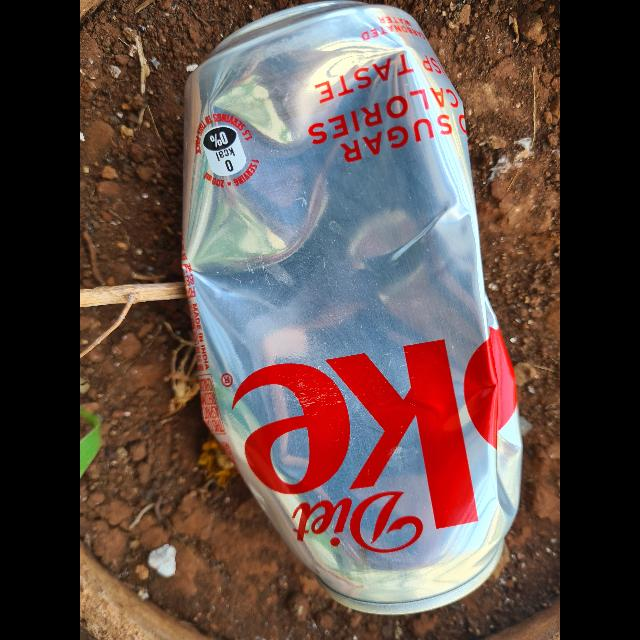trash: (180, 0, 524, 616)
